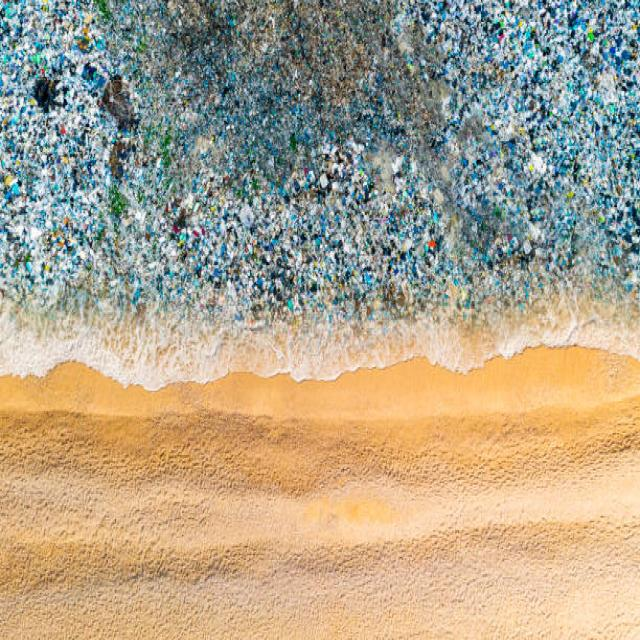trash: (30, 16, 602, 287)
